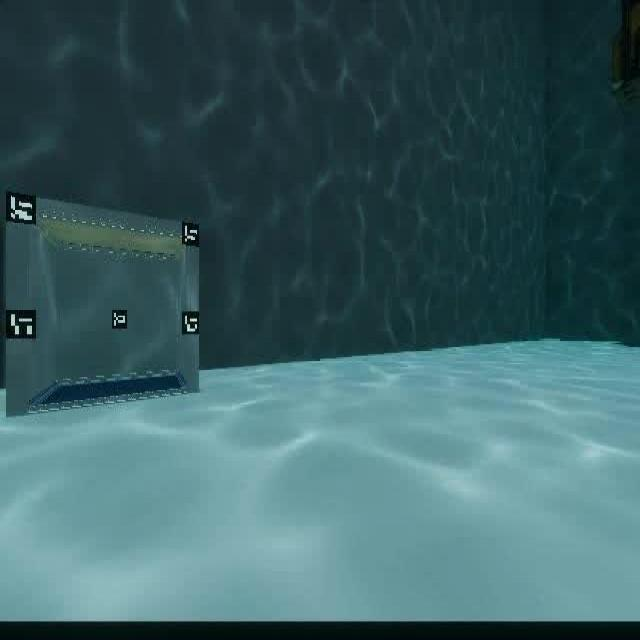Docking Station: (2, 176, 206, 424)
